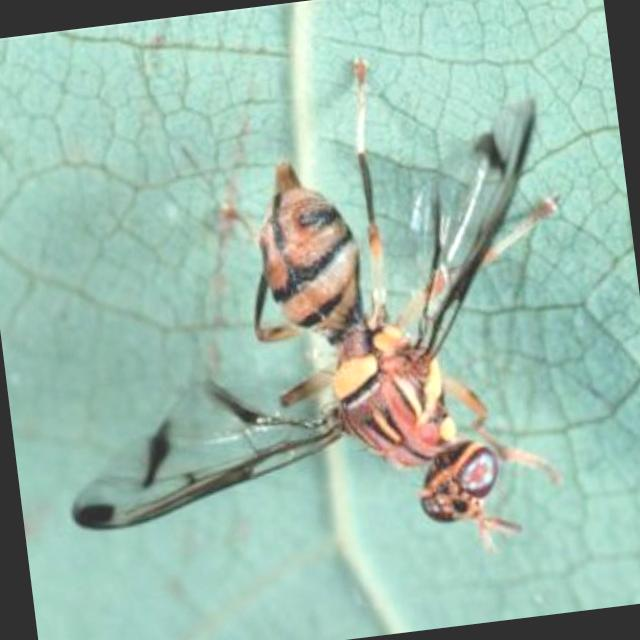melon fly: (15, 20, 628, 626)
